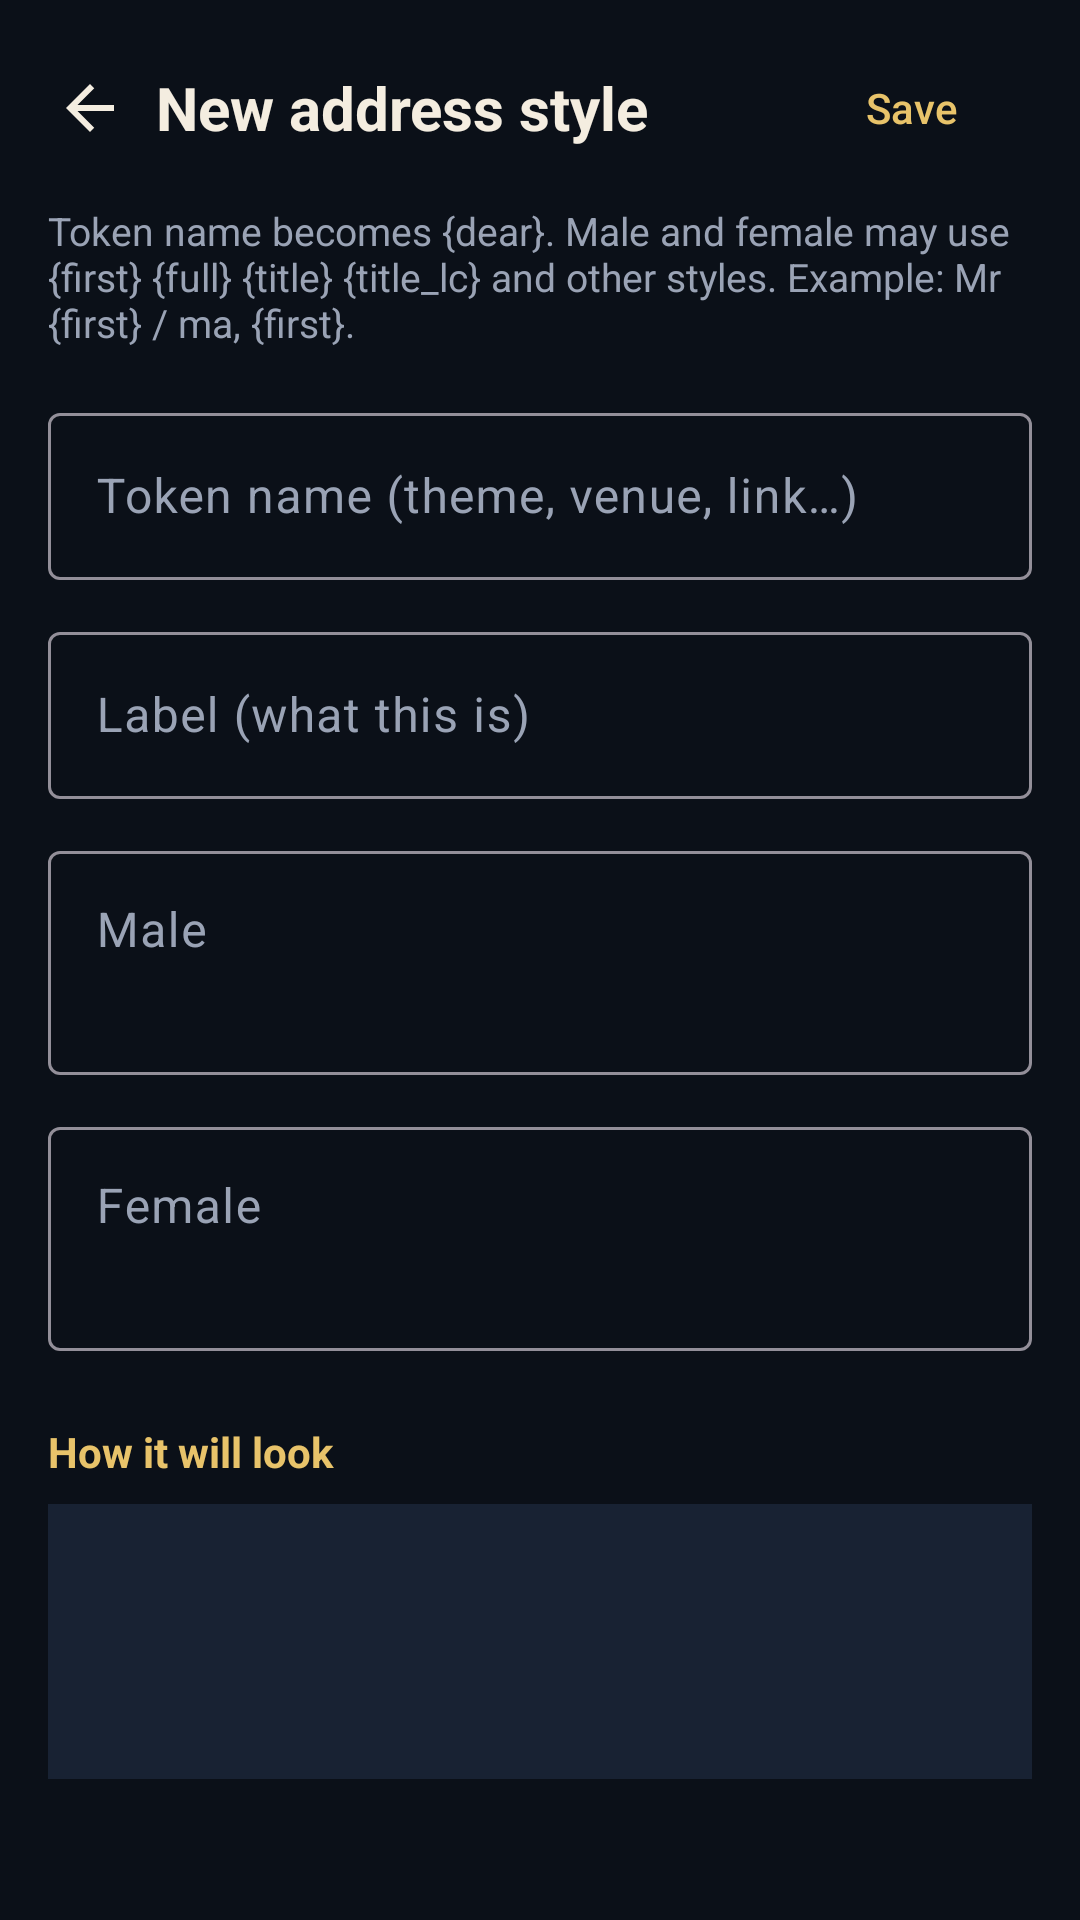

Icons on this 1080px x 1920px Android screen, each with the point to tap as point (x, y):
Back: point (90, 108)
